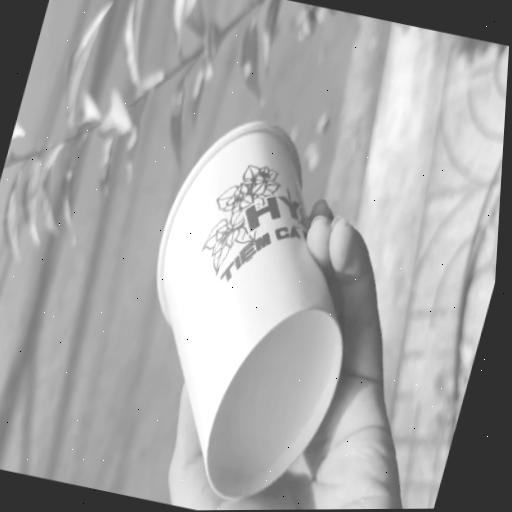Ly_giay: (156, 121, 342, 498)
